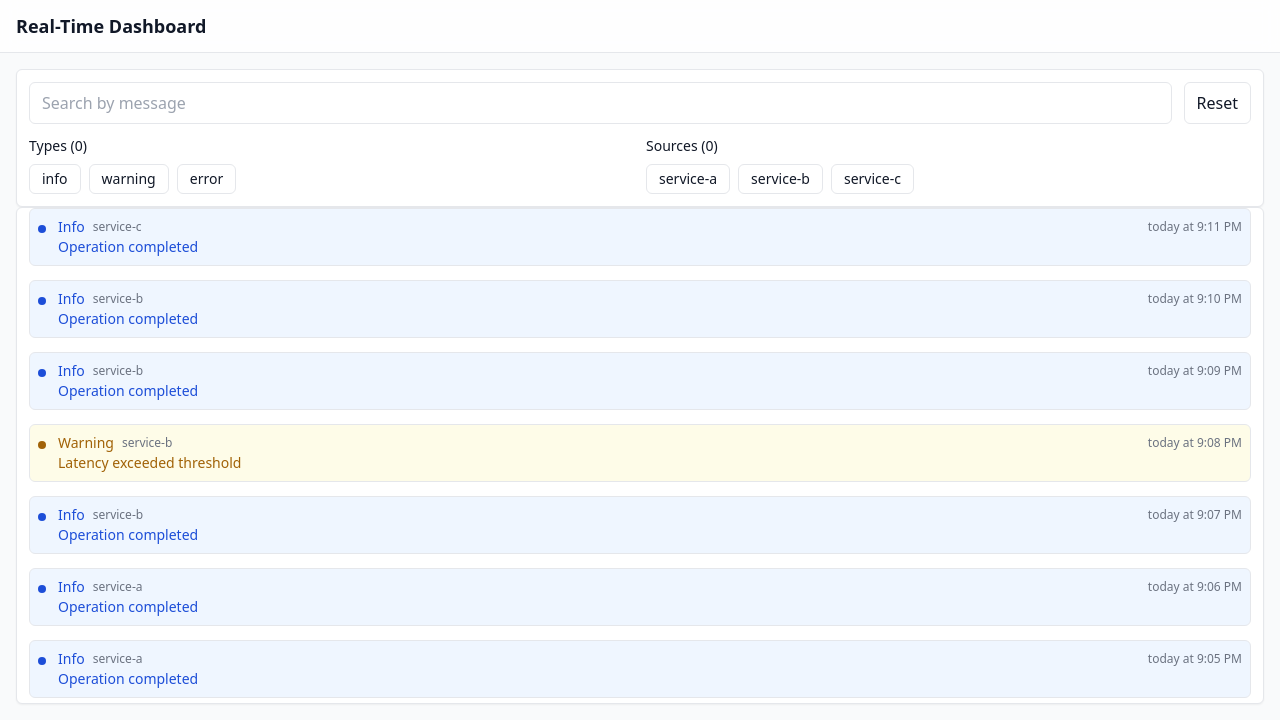
Test: Event Details Panel › should display event details correctly
The image size is (1280, 720).
Click the 1st button with test id "event-row" at coordinates (117, 227), box [29, 208, 1251, 266]
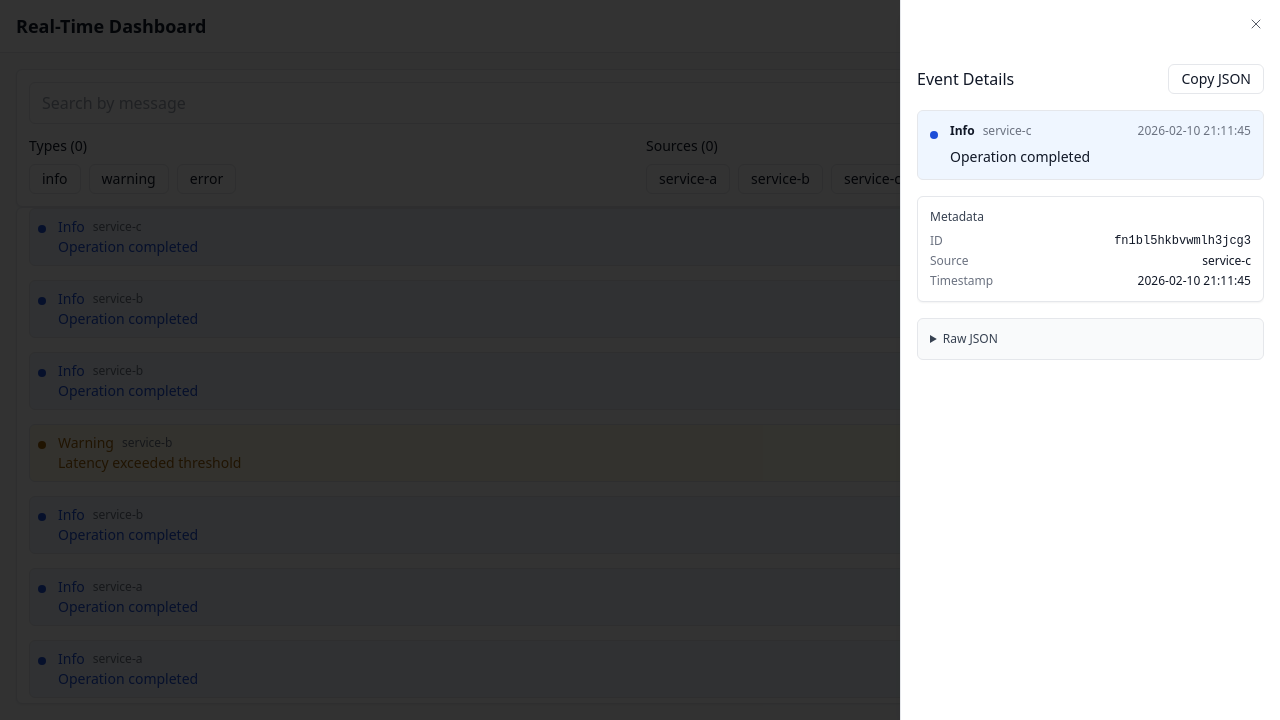
Now the dialog with test id "event-details-panel" is shown, box [900, 0, 1279, 719]
Now the text "info" is shown, box [950, 123, 975, 139]
Now the 1st text "service-c" is shown, box [983, 123, 1031, 139]
